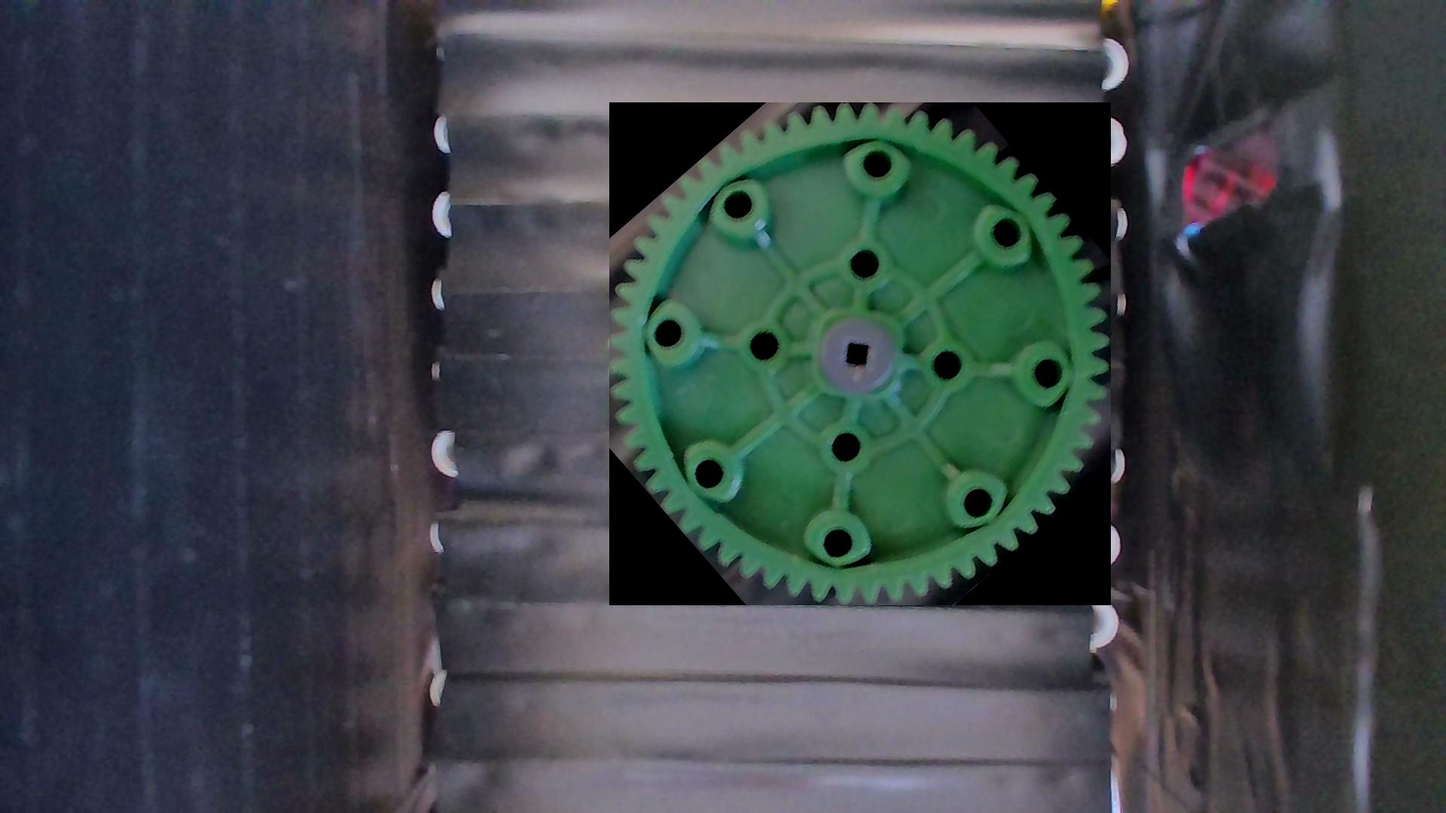gear: (609, 102, 1111, 605)
